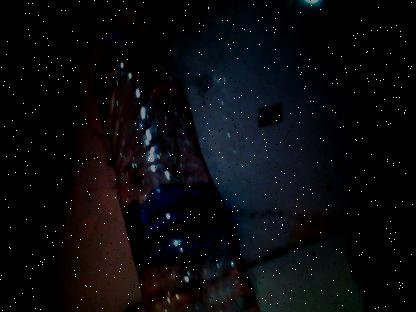Plastic Bottle: (79, 23, 258, 312)
